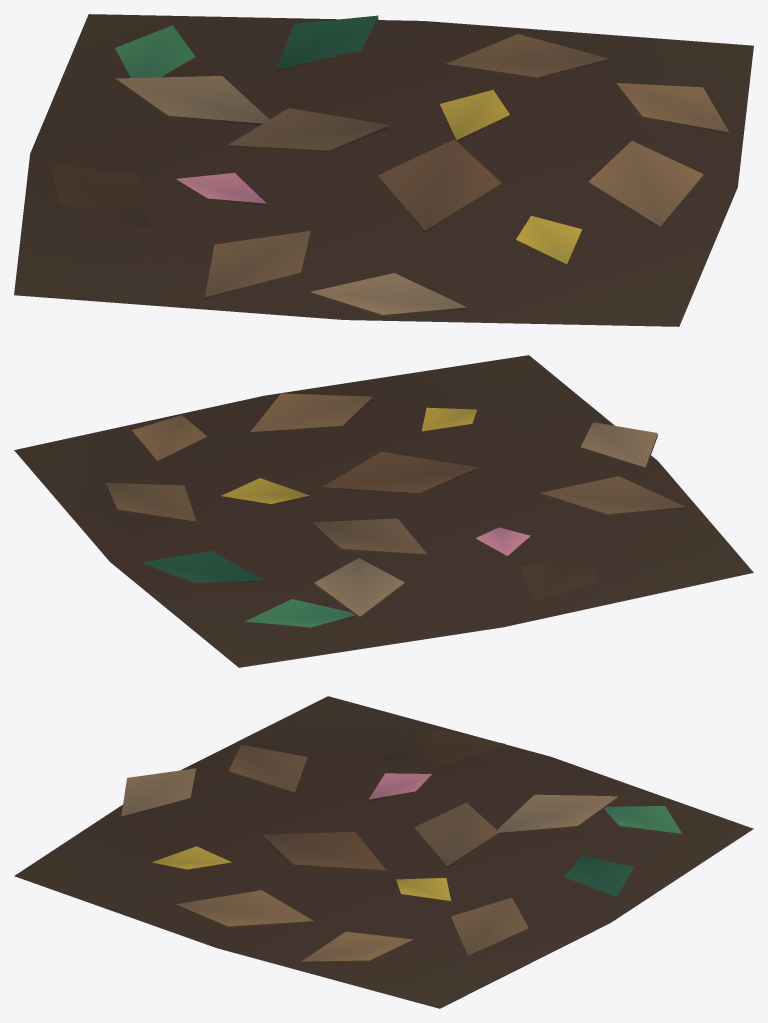
The model's file is custom-serapilheira.glb.
3 views of the same model, one above another, from view 1: azimuth 30°, elevation 25°; view 2: azimuth 150°, elevation 25°; view 3: azimuth 270°, elevation 25° (orthographic). The views are drawn at different scales.
Visible parts, largest first — view 1: serapilheira; view 2: serapilheira; view 3: serapilheira.
Part boxes in pixels (x1,y1,x2,y2): serapilheira: (14,14,753,326); serapilheira: (14,355,753,667); serapilheira: (14,696,753,1008).
Bounding box in the file's own units: 2.23 × 0.038 × 2.23.
